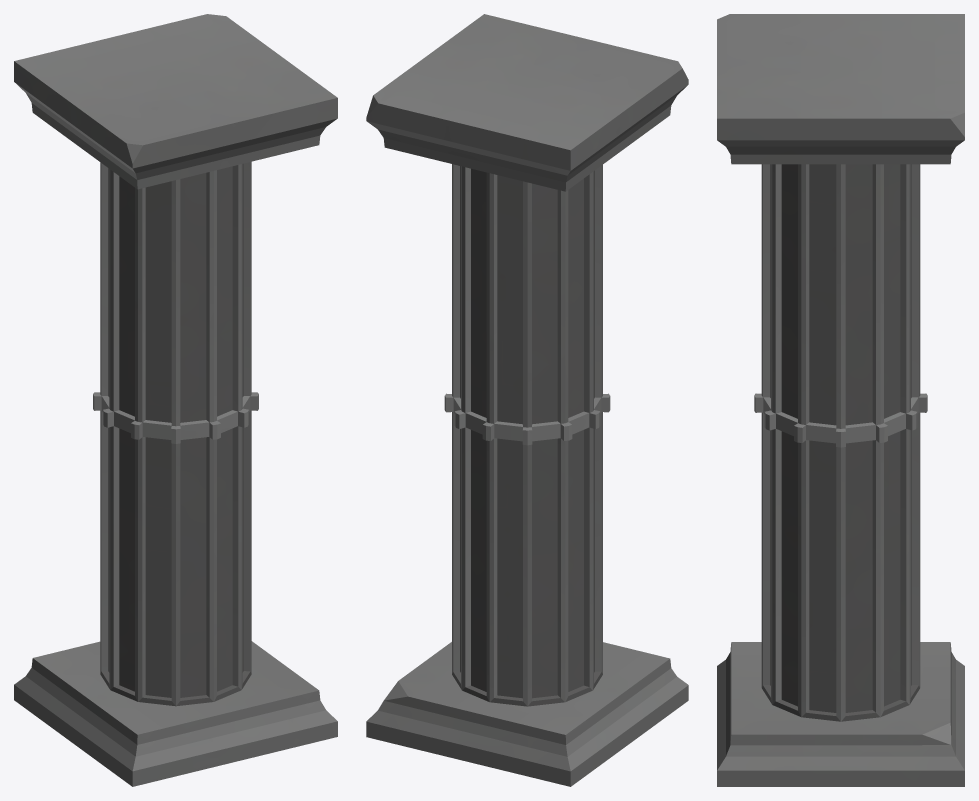
Rendered from Pillar_5.fbx.
3 views of the same model, side by side, from view 1: azimuth 30°, elevation 25°; view 2: azimuth 150°, elevation 25°; view 3: azimuth 270°, elevation 25° (orthographic). The views are drawn at different scales.
Visible parts, largest first — view 1: Pillar 5; view 2: Pillar 5; view 3: Pillar 5.
Boxes of the visible parts, x1=… form: Pillar 5: x1=14, y1=14, x2=337, y2=786; Pillar 5: x1=366, y1=14, x2=688, y2=786; Pillar 5: x1=717, y1=14, x2=964, y2=786.
Bounding box in the file's own units: 84.16 × 250 × 84.16.
